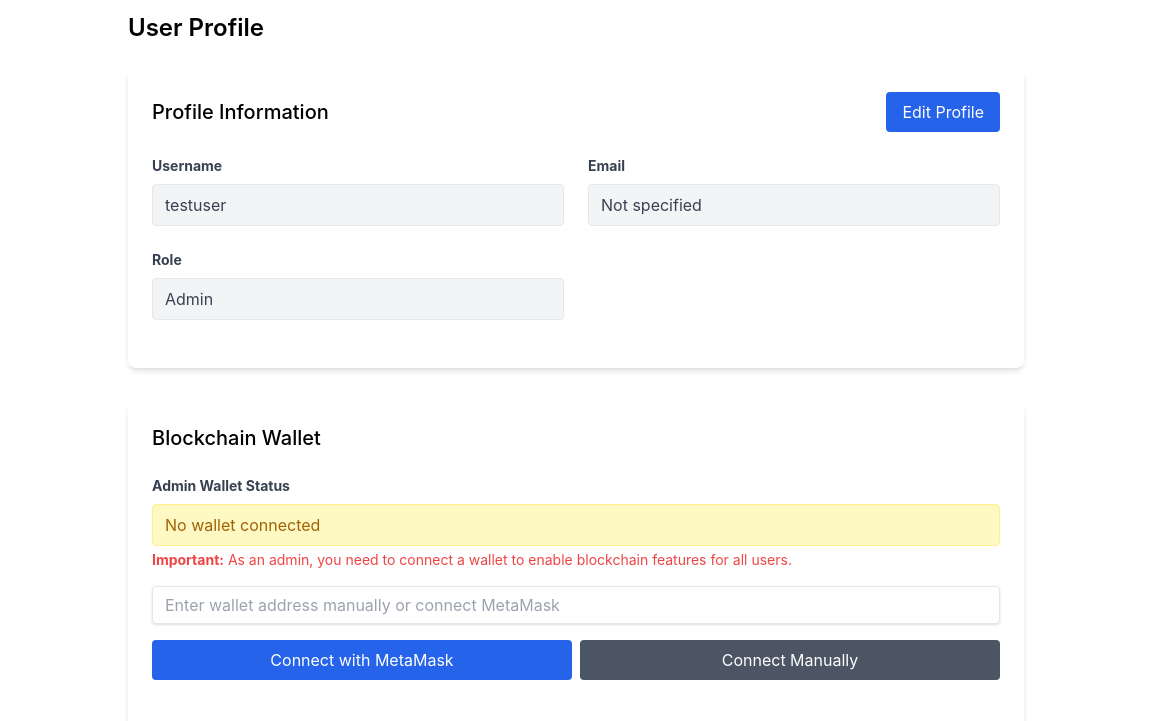
Profile Component › handles MetaMask not installed
Click the button "Connect with MetaMask".
click(362, 660)  # box left=152, top=640, right=572, bottom=680
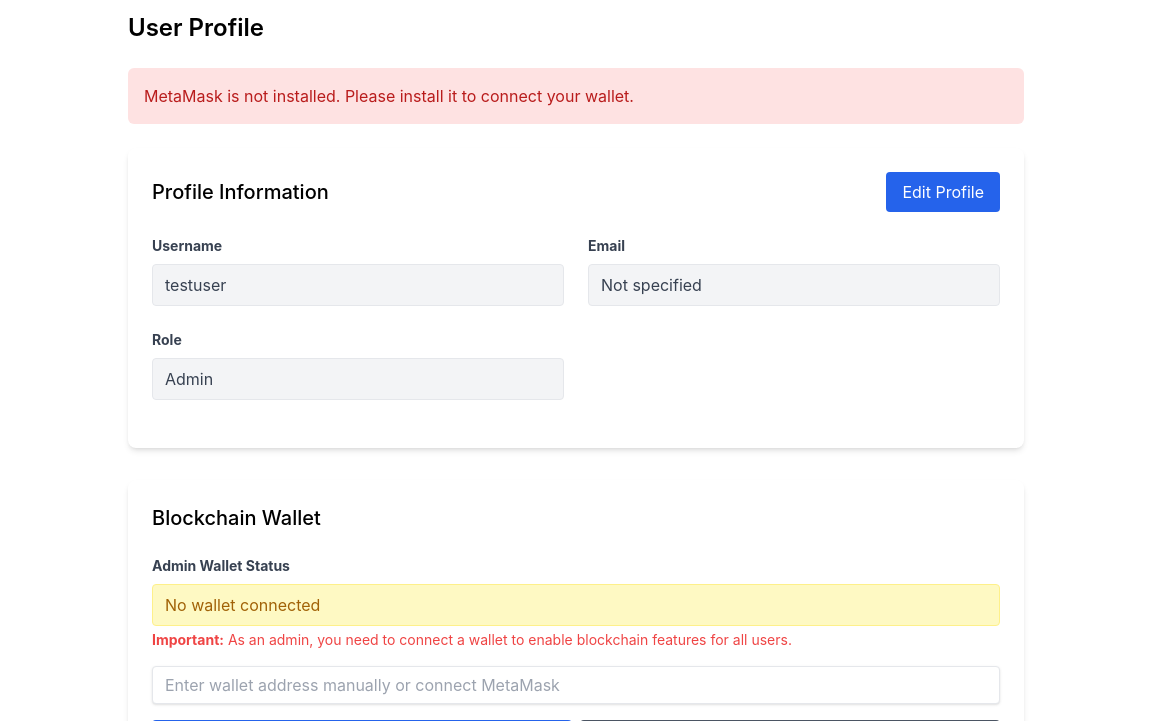
Expected: the text "MetaMask is not installed. Please install it to connect your wallet." is shown, left=128, top=68, right=1024, bottom=124
